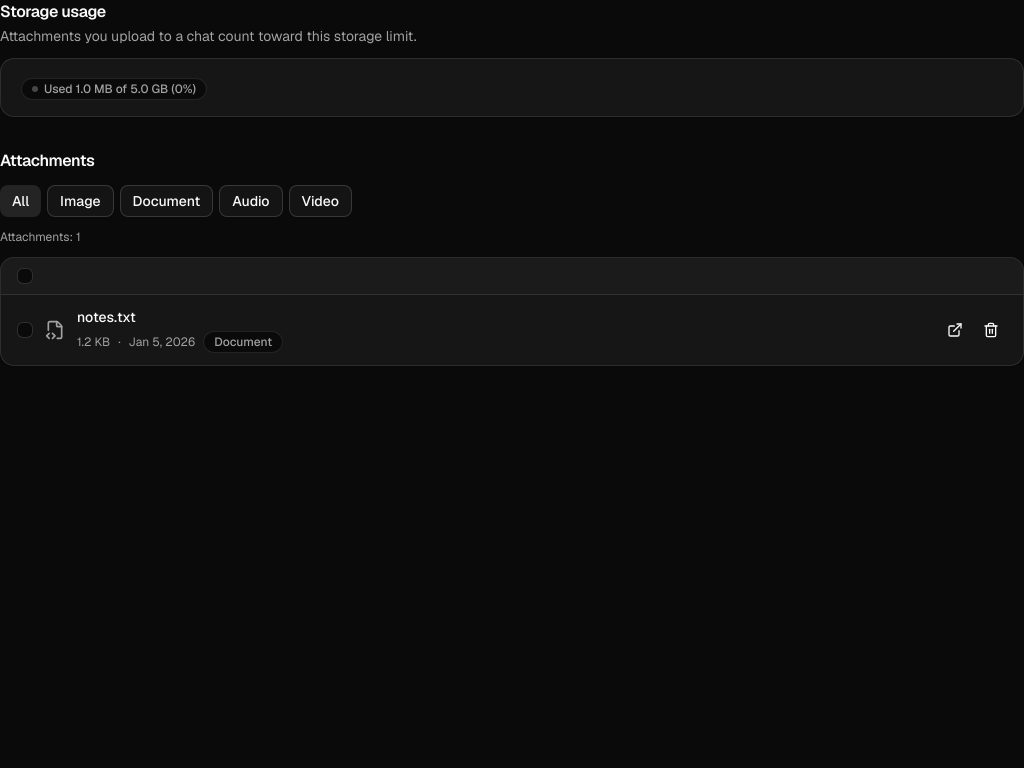
Scenario: FilesScreen › surfaces a 409 conflict without closing the dialog
Expected: the text "notes.txt" is shown, [77,308,136,326]
Click the button named "Delete notes.txt": (991,330) [975,314,1007,346]
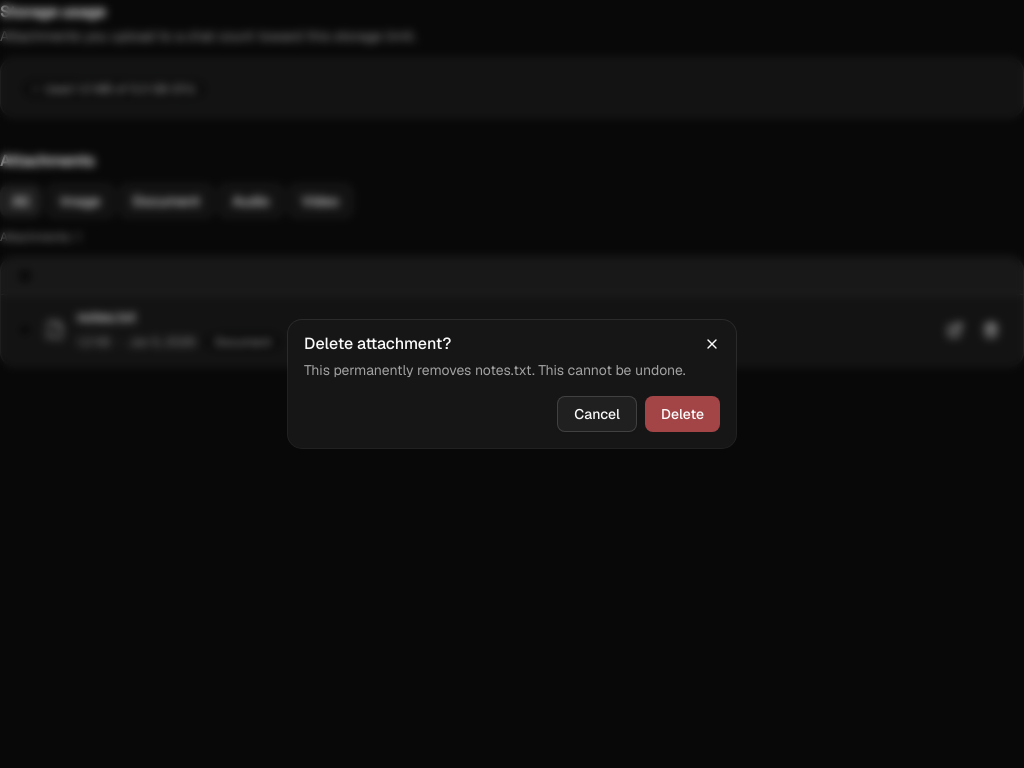
Click the button "Delete": (682,414) [645,396,720,432]
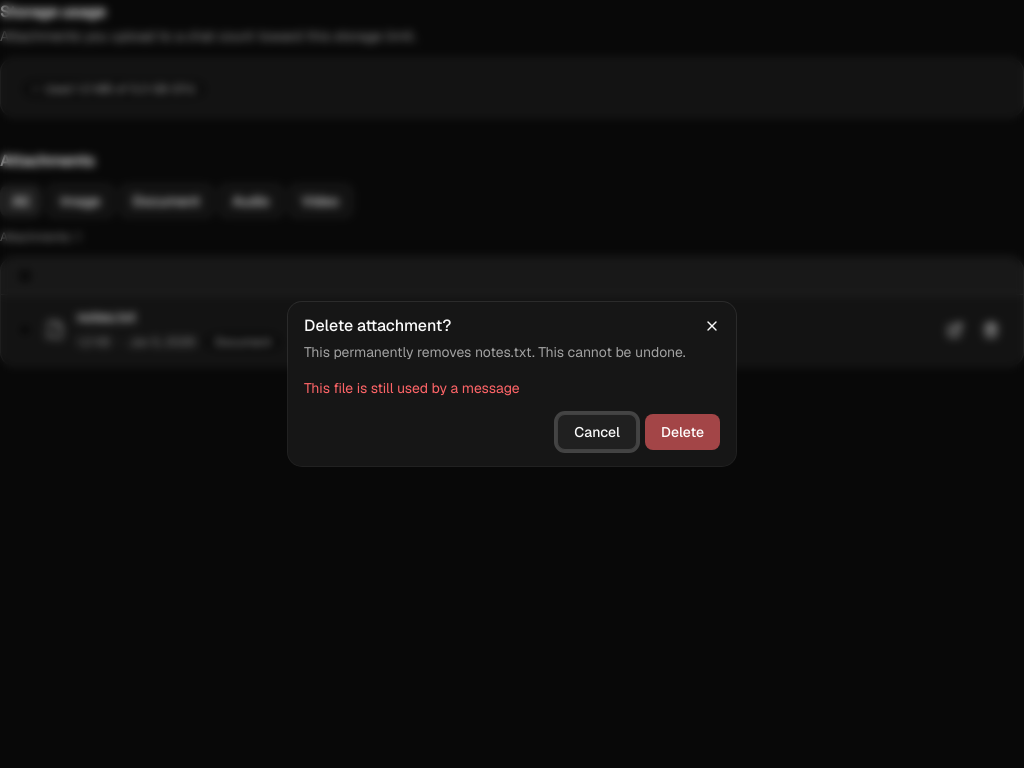
Expected: the dialog is shown, [288,302,736,466]
Expected: the text "This file is still used by a message" is shown, [304,379,520,397]
